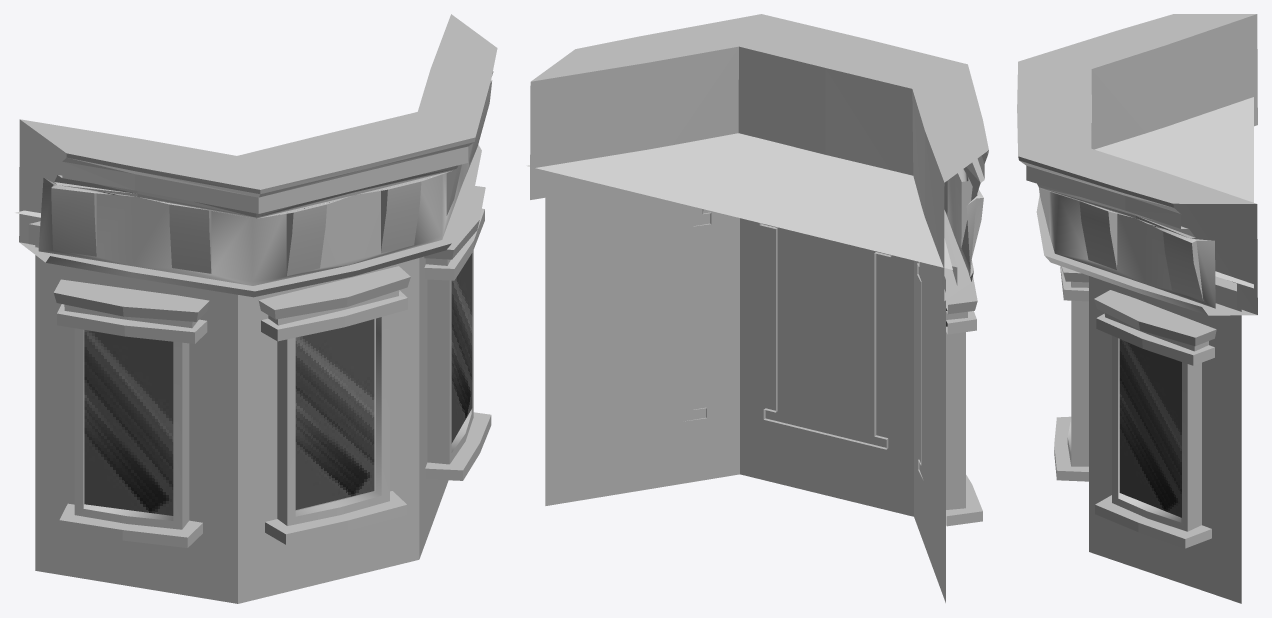
The model's file is bay_window_top.FBX.
The picture shows the model from 3 angles, left to right: view 1: azimuth 30°, elevation 25°; view 2: azimuth 150°, elevation 25°; view 3: azimuth 270°, elevation 25°; orthographic projection. The views are drawn at different scales.
Parts seen in each view (by area): view 1: frame, entablature, glass (×2), glass001; view 2: frame, entablature, terrace; view 3: entablature, frame, glass001, terrace.
Part boxes in pixels (box(x1,y1,x2,y2)): frame: box(28, 186, 491, 603); entablature: box(19, 14, 497, 297); glass (×2): box(84, 319, 374, 515); glass001: box(451, 253, 472, 443); frame: box(545, 187, 982, 602); entablature: box(530, 14, 988, 300); terrace: box(526, 133, 952, 269); entablature: box(1017, 14, 1257, 315); frame: box(1054, 266, 1241, 603); glass001: box(1119, 339, 1181, 517); terrace: box(1094, 97, 1253, 288).
Size of the model in its own units: 4.06 by 3.89 by 2.11.
